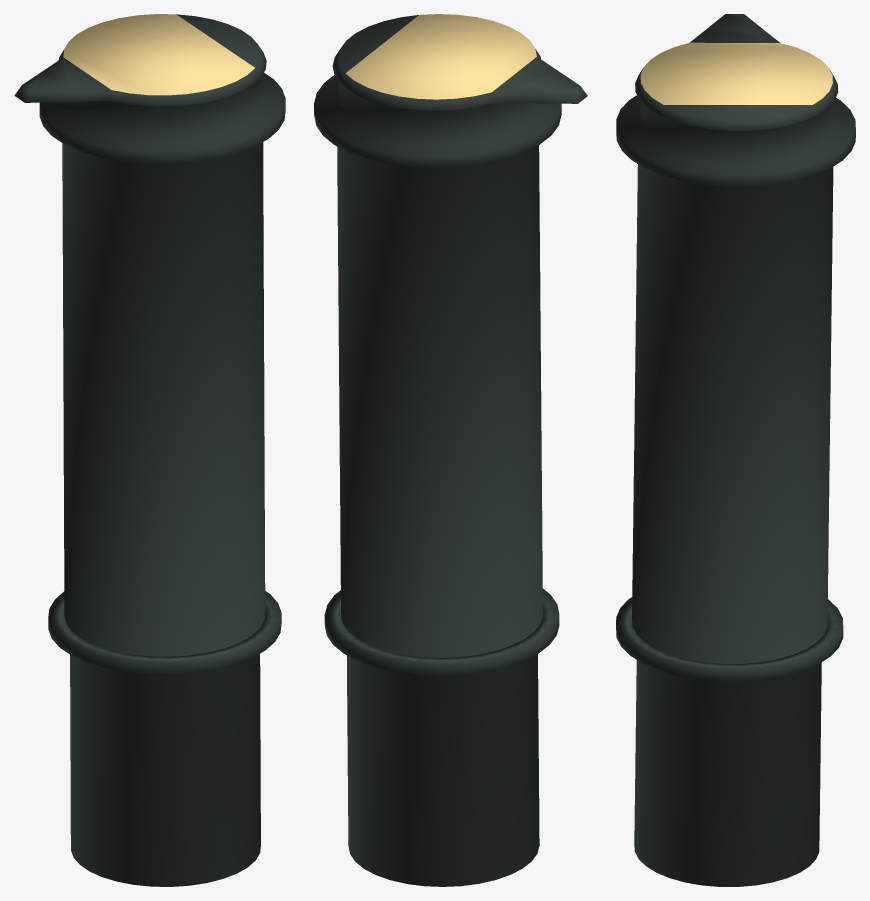
File: DSOC.glb
3 renders of one model, left to right at view 1: azimuth 30°, elevation 25°; view 2: azimuth 150°, elevation 25°; view 3: azimuth 270°, elevation 25°, orthographic. The views are drawn at different scales.
Visible parts, largest first — view 1: Cylinder.009; view 2: Cylinder.009; view 3: Cylinder.009.
Boxes of the visible parts, bbox=[...] form: Cylinder.009: bbox=[14, 14, 285, 886]; Cylinder.009: bbox=[314, 14, 587, 886]; Cylinder.009: bbox=[616, 14, 855, 886].
Bounding box in the file's own units: 0.7187 × 2.17 × 0.6117.
Materials: 2 (1 with a texture image).
